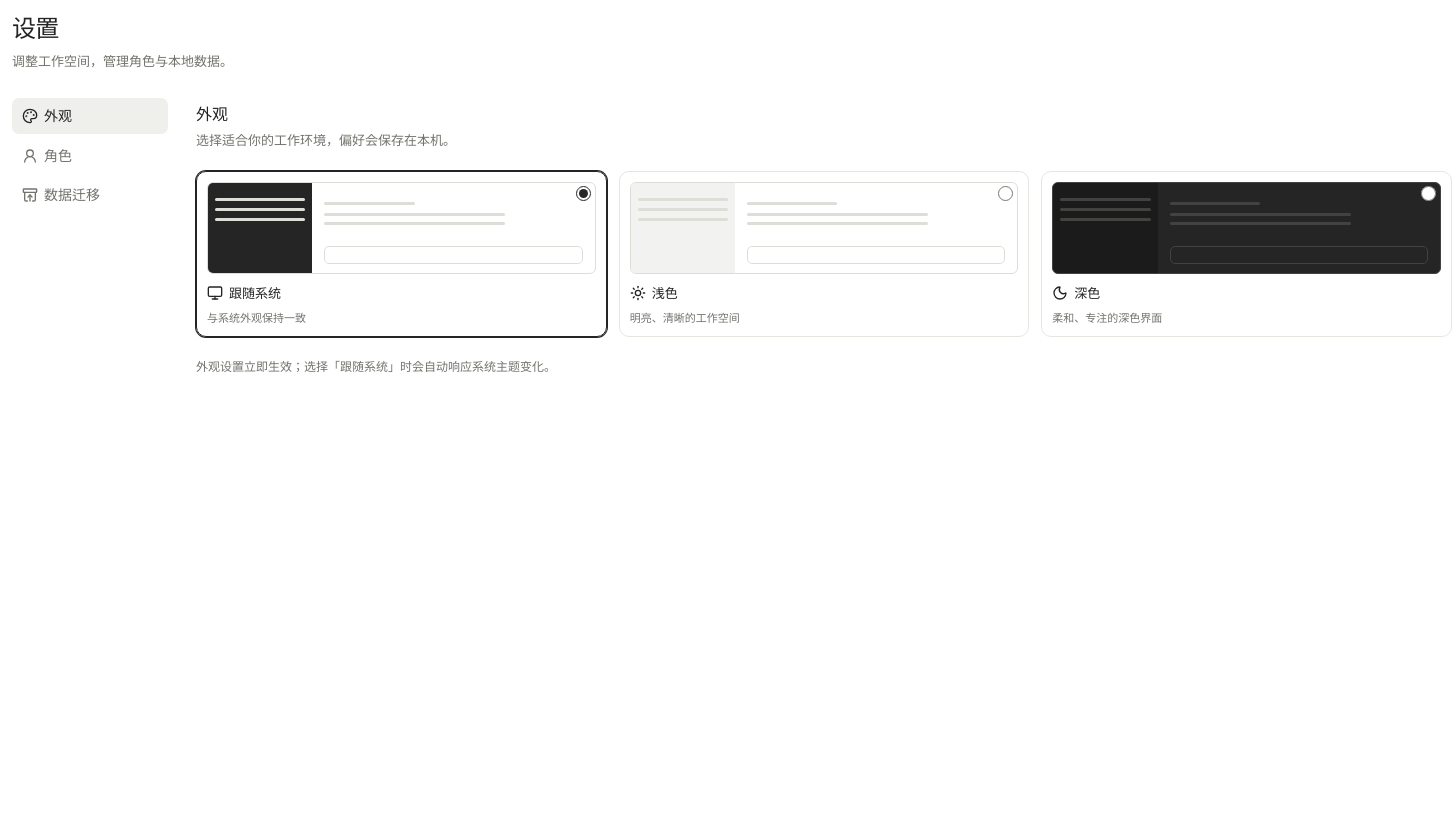
it: SettingsPage › includes the role editor
What coordinates should you click on to do the following:
click the button "角色"
I would click on:
 (90, 156)
Its box is [12,138,168,173].
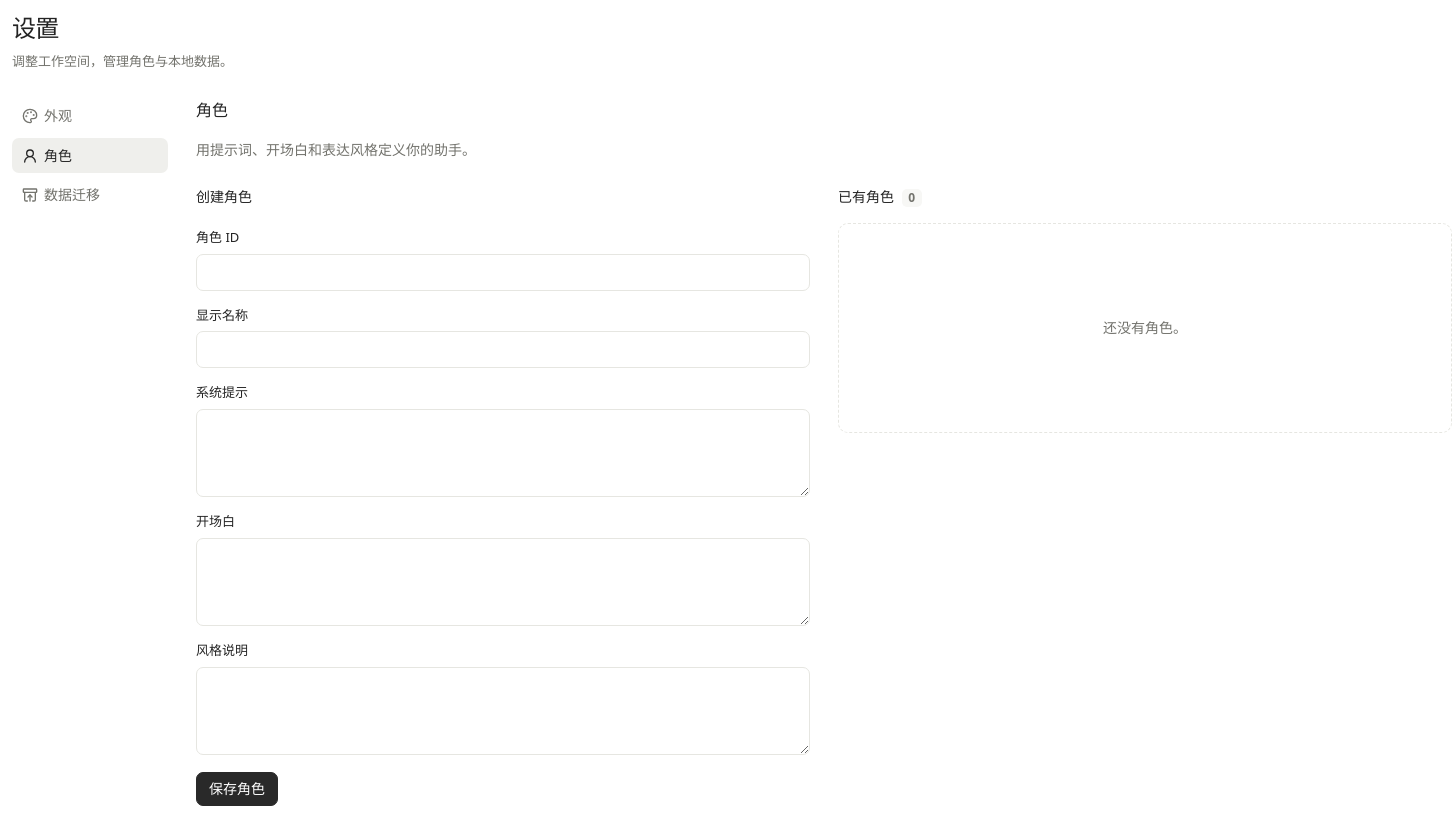
Result: the heading "角色" is shown at [196,99,228,121]
